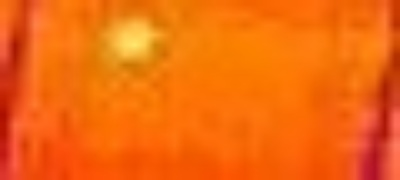Hotspot: (106, 12, 166, 64)
